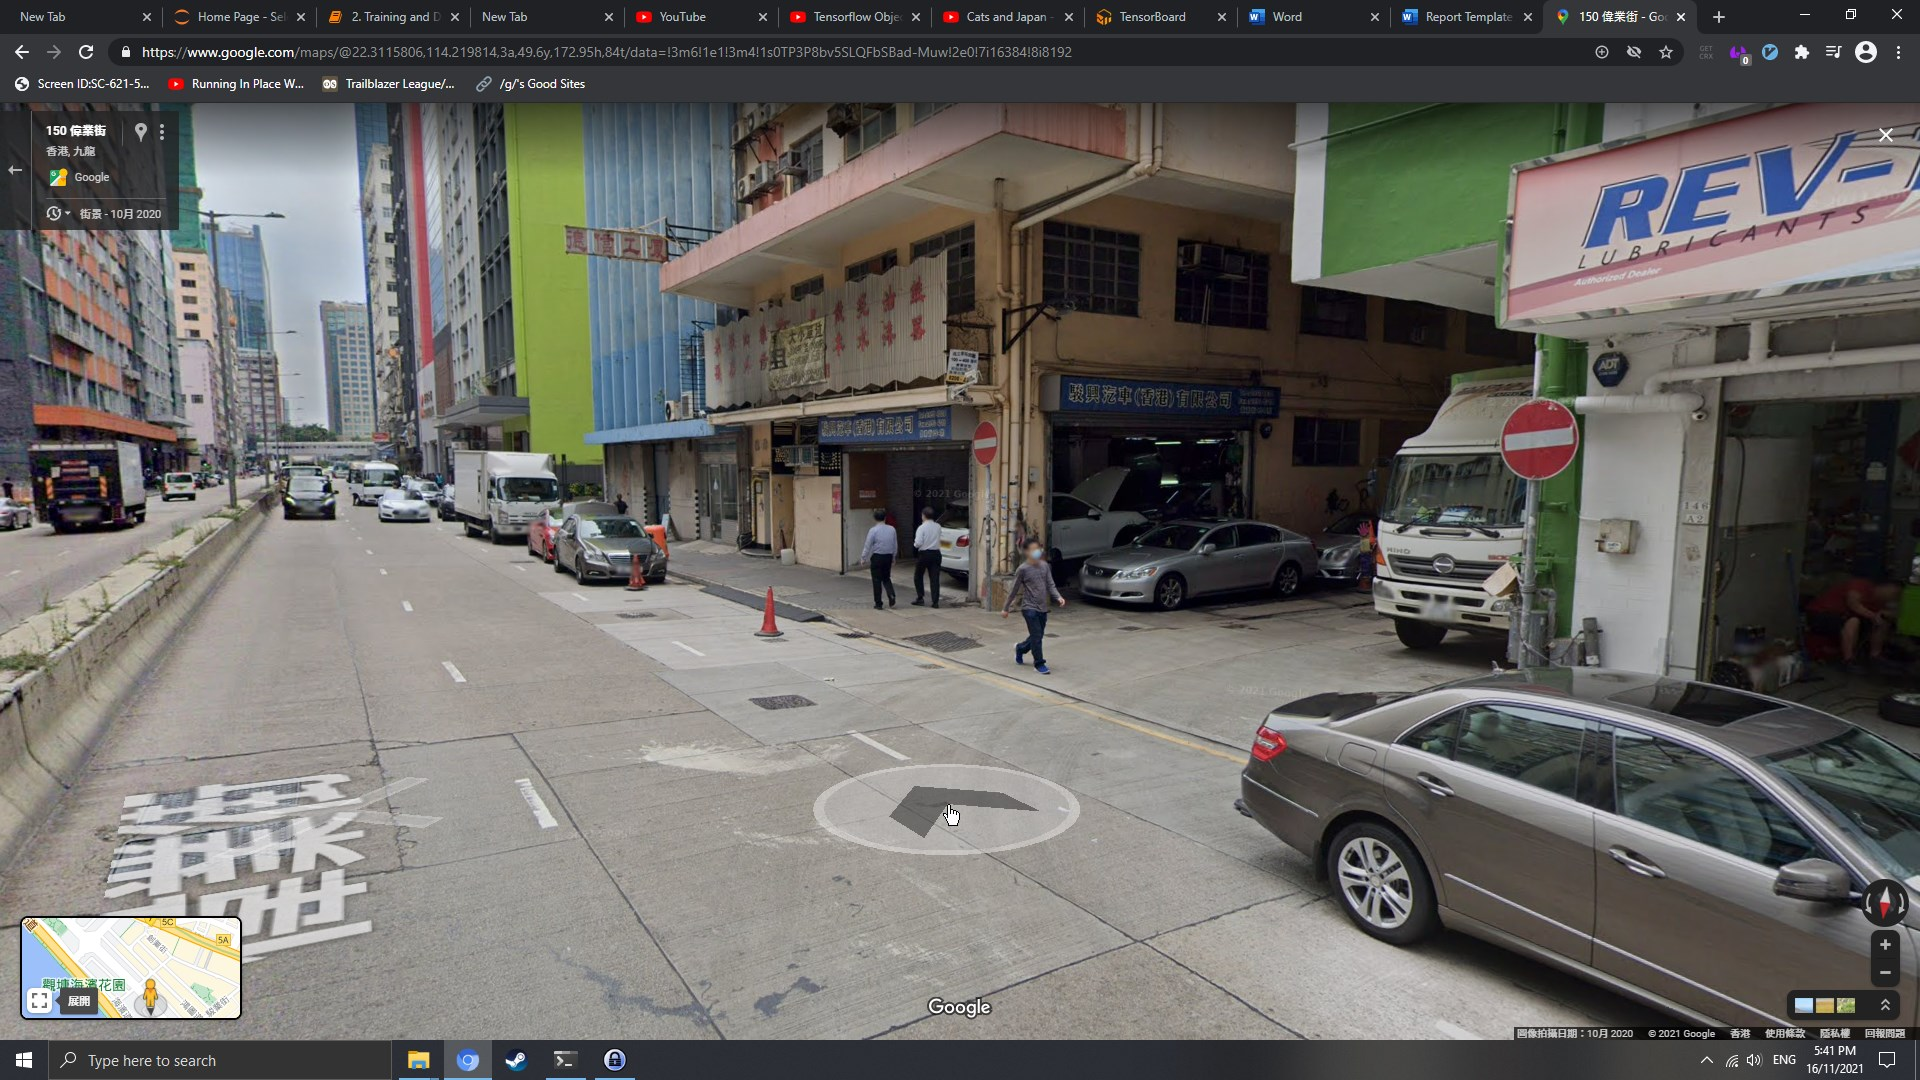NoEntry: (1501, 398, 1578, 480)
